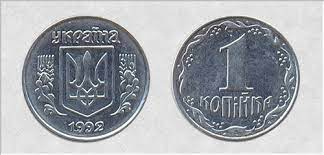coin_1: (172, 16, 300, 143), (22, 16, 149, 143)
